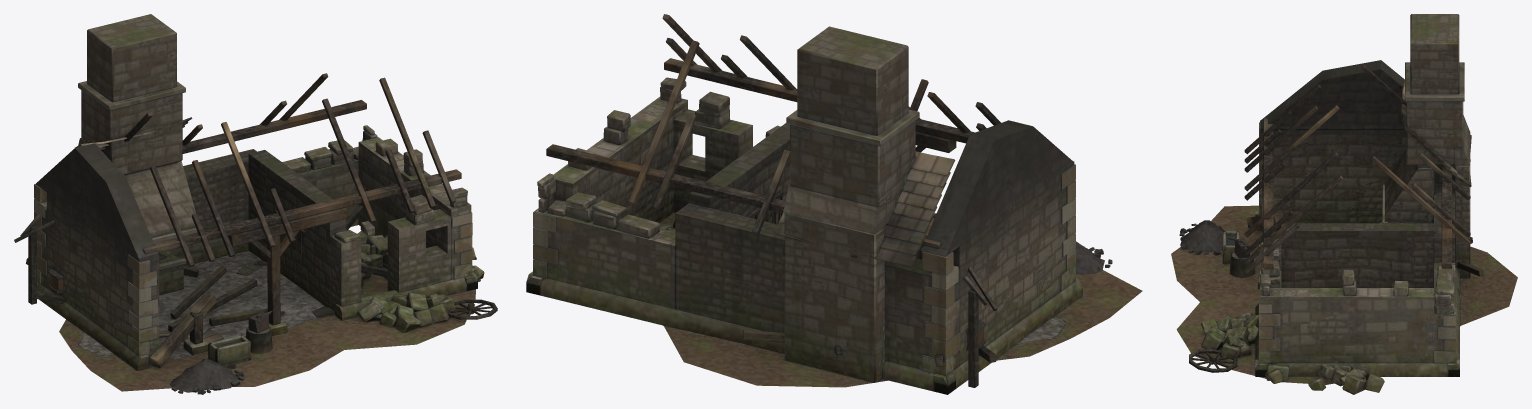
The model's file is blacksmith_ruin.glb.
3 renders of one model, left to right at view 1: azimuth 30°, elevation 25°; view 2: azimuth 150°, elevation 25°; view 3: azimuth 270°, elevation 25°, orthographic. The views are drawn at different scales.
Parts seen in each view (by area): view 1: blacksmith_ruin_LOD0; view 2: blacksmith_ruin_LOD0; view 3: blacksmith_ruin_LOD0.
Boxes of the visible parts, x1=… form: blacksmith_ruin_LOD0: x1=14, y1=14, x2=497, y2=394; blacksmith_ruin_LOD0: x1=526, y1=14, x2=1142, y2=394; blacksmith_ruin_LOD0: x1=1171, y1=14, x2=1517, y2=394.
Size of what is drawn, in the model's own units: 11.5 by 6.6 by 8.88.
Materials: 1 (1 with a texture image).
